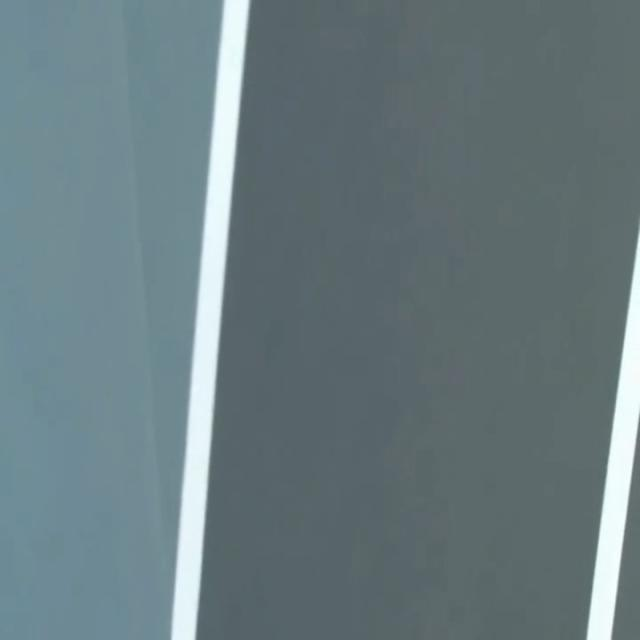center: (586, 223, 639, 639)
left: (171, 0, 249, 639)
